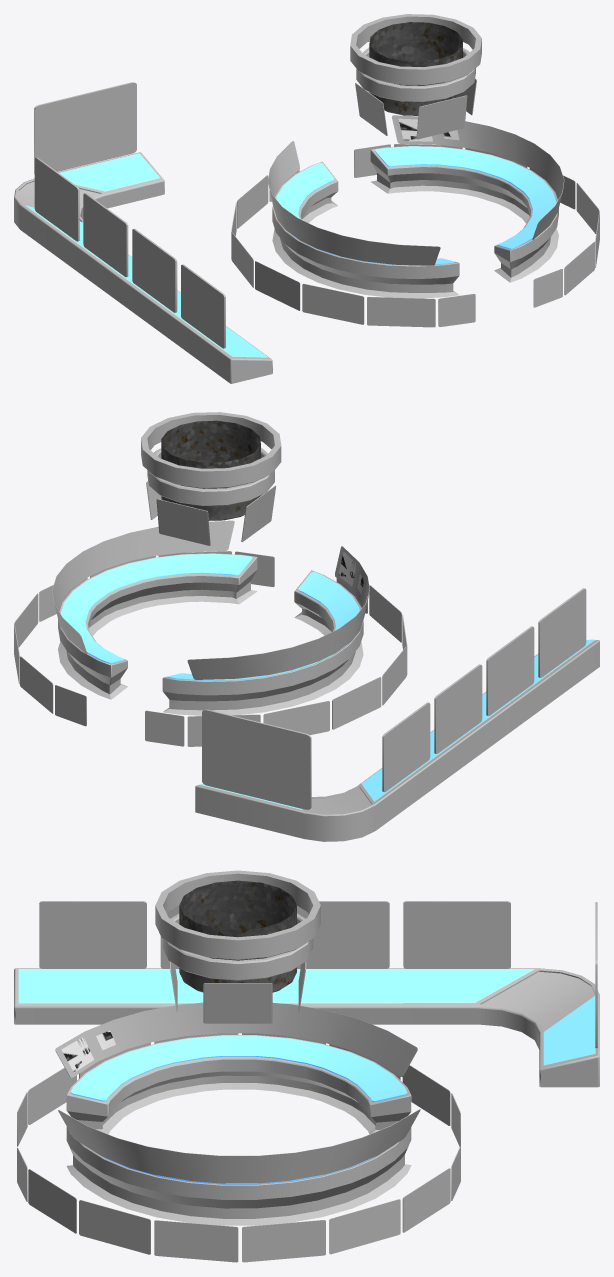
File: Data.fbx
The picture shows the model from 3 angles, top to bottom: view 1: azimuth 30°, elevation 25°; view 2: azimuth 150°, elevation 25°; view 3: azimuth 270°, elevation 25°; orthographic projection. The views are drawn at different scales.
Parts seen in each view (by area): view 1: TourEcrans_002, Barriere_002, Bureau_005, Bureau_006, Bureau_004, EcranHolo_014, EcranHolo_009.002, EcranHolo_009.001, EcranHolo_012, EcranHolo_013, EcranHolo_011, EcranHolo_010 (+2 smaller); view 2: TourEcrans_002, Bureau_006, Bureau_005, Barriere_002, Bureau_004, EcranHolo_014, EcranHolo_009.001, EcranHolo_009.002, EcranHolo_010, EcranHolo_011, EcranHolo_013, EcranHolo_012; view 3: Bureau_006, Barriere_002, Bureau_004, TourEcrans_002, Bureau_005, EcranHolo_009.002, EcranHolo_009.001, EcranHolo_010, EcranHolo_013, EcranHolo_012, Bureau_006.003, EcranHolo_009.003 (+1 smaller).
Part boxes in pixels (x1=…): TourEcrans_002: x1=350, y1=14, x2=481, y2=139; Barriere_002: x1=231, y1=144, x2=599, y2=327; Bureau_005: x1=370, y1=146, x2=558, y2=282; Bureau_006: x1=14, y1=152, x2=272, y2=383; Bureau_004: x1=272, y1=161, x2=459, y2=298; EcranHolo_014: x1=34, y1=82, x2=136, y2=173; EcranHolo_009.002: x1=268, y1=141, x2=440, y2=265; EcranHolo_009.001: x1=392, y1=115, x2=564, y2=240; EcranHolo_012: x1=83, y1=193, x2=128, y2=277; EcranHolo_013: x1=34, y1=157, x2=79, y2=241; EcranHolo_011: x1=132, y1=228, x2=177, y2=312; EcranHolo_010: x1=181, y1=264, x2=225, y2=348; TourEcrans_002: x1=141, y1=412, x2=281, y2=545; Bureau_006: x1=195, y1=639, x2=599, y2=841; Bureau_005: x1=58, y1=553, x2=257, y2=699; Barriere_002: x1=14, y1=551, x2=407, y2=746; Bureau_004: x1=162, y1=570, x2=363, y2=715; EcranHolo_014: x1=202, y1=709, x2=311, y2=809; EcranHolo_009.001: x1=52, y1=520, x2=234, y2=654; EcranHolo_009.002: x1=187, y1=546, x2=369, y2=679; EcranHolo_010: x1=538, y1=588, x2=586, y2=677; EcranHolo_011: x1=486, y1=626, x2=534, y2=715; EcranHolo_013: x1=382, y1=702, x2=430, y2=792; EcranHolo_012: x1=434, y1=664, x2=482, y2=753; Bureau_006: x1=14, y1=968, x2=599, y2=1087; Barriere_002: x1=17, y1=1033, x2=460, y2=1262; Bureau_004: x1=66, y1=1035, x2=411, y2=1134; TourEcrans_002: x1=155, y1=870, x2=320, y2=1023; Bureau_005: x1=66, y1=1127, x2=411, y2=1225; EcranHolo_009.002: x1=55, y1=1002, x2=417, y2=1077; EcranHolo_009.001: x1=58, y1=1109, x2=420, y2=1183; EcranHolo_010: x1=39, y1=901, x2=146, y2=968; EcranHolo_013: x1=403, y1=901, x2=510, y2=968; EcranHolo_012: x1=297, y1=901, x2=389, y2=968; Bureau_006.003: x1=543, y1=996, x2=595, y2=1065; EcranHolo_009.003: x1=61, y1=1030, x2=115, y2=1072.
Size of the model in its own units: 2067 by 948 by 1931.
